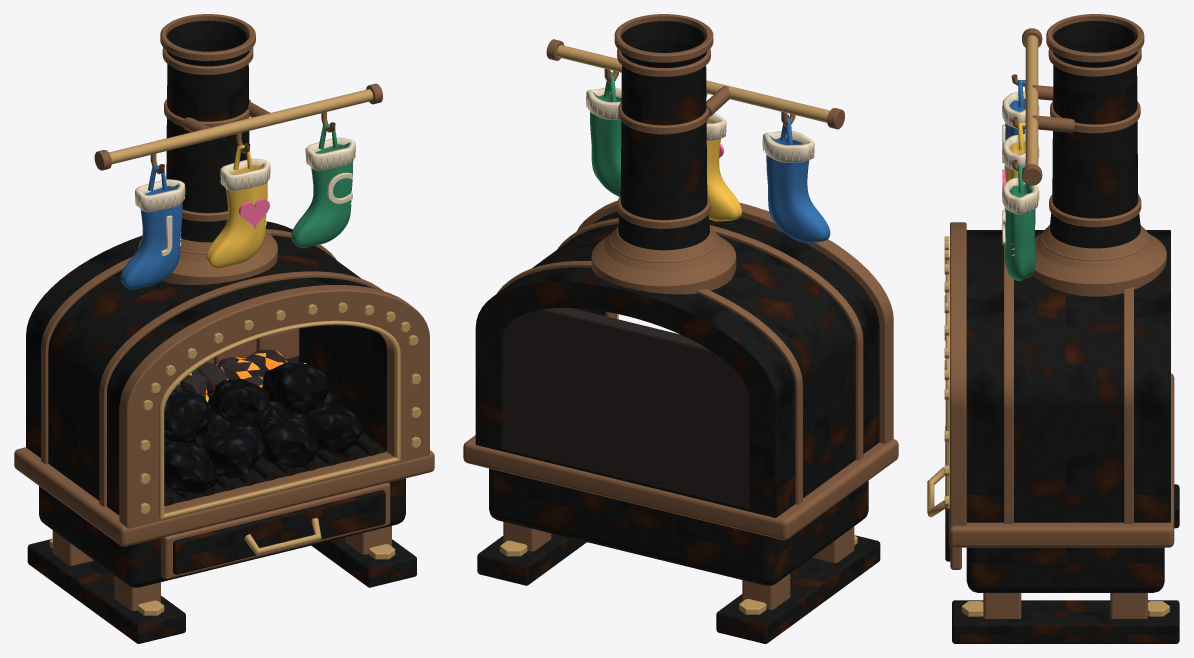
Rendered from aft_furnace.glb.
The picture shows the model from 3 angles, left to right: view 1: azimuth 30°, elevation 25°; view 2: azimuth 150°, elevation 25°; view 3: azimuth 270°, elevation 25°; orthographic projection. The views are drawn at different scales.
Visible parts, largest first — view 1: Barrel vault, Raised fire mouth, Rolled chimney | hollow bore, Hearth sill, Ash drawer moulding.001, Ash pit, Deck shoe, Polished mouth bead, Stocking rail, Casting strap, J | stocking, C | stocking (+23 smaller); view 2: Barrel vault, Fireback, Ash pit, Rolled chimney | hollow bore, Hearth sill, Flared chimney socket, Deck shoe, Raised fire mouth, J | stocking, Casting strap, Deck shoe.001, Casting strap.001 (+12 smaller); view 3: Barrel vault, Rolled chimney | hollow bore, Ash pit, Deck shoe.001, Hearth sill, Flared chimney socket, Raised fire mouth, Casting strap, Casting strap.001, C | stocking, Rolled flue collar.004, Stocking rail (+13 smaller).
Part boxes in pixels (left/top/right/bottom): Barrel vault: left=26, top=221, right=386, bottom=515; Raised fire mouth: left=119, top=285, right=429, bottom=528; Rolled chimney | hollow bore: left=166, top=20, right=249, bottom=242; Hearth sill: left=14, top=447, right=434, bottom=546; Ash drawer moulding.001: left=173, top=490, right=385, bottom=574; Ash pit: left=39, top=478, right=405, bottom=587; Deck shoe: left=27, top=539, right=185, bottom=643; Polished mouth bead: left=158, top=320, right=400, bottom=519; Stocking rail: left=109, top=89, right=373, bottom=164; Casting strap: left=99, top=271, right=383, bottom=506; J | stocking: left=120, top=184, right=182, bottom=289; C | stocking: left=291, top=142, right=352, bottom=247; Barrel vault: left=475, top=211, right=879, bottom=517; Fireback: left=503, top=308, right=749, bottom=507; Ash pit: left=489, top=468, right=868, bottom=585; Rolled chimney | hollow bore: left=618, top=21, right=709, bottom=250; Hearth sill: left=463, top=435, right=898, bottom=540; Flared chimney socket: left=591, top=226, right=736, bottom=294; Deck shoe: left=716, top=535, right=880, bottom=643; Raised fire mouth: left=576, top=200, right=893, bottom=443; J | stocking: left=766, top=135, right=830, bottom=242; Casting strap: left=557, top=218, right=863, bottom=460; Deck shoe.001: left=477, top=533, right=586, bottom=585; Casting strap.001: left=497, top=261, right=802, bottom=504; Barrel vault: left=966, top=230, right=1170, bottom=522; Rolled chimney | hollow bore: left=1049, top=21, right=1140, bottom=248; Ash pit: left=966, top=547, right=1164, bottom=592; Deck shoe.001: left=952, top=600, right=1179, bottom=643; Hearth sill: left=949, top=373, right=1174, bottom=547; Flared chimney socket: left=1032, top=224, right=1166, bottom=296; Raised fire mouth: left=950, top=222, right=966, bottom=526; Casting strap: left=1004, top=244, right=1013, bottom=523; Casting strap.001: left=1124, top=287, right=1133, bottom=523; C | stocking: left=1004, top=184, right=1035, bottom=281; Rolled flue collar.004: left=1046, top=14, right=1144, bottom=62; Stocking rail: left=1025, top=35, right=1038, bottom=165.
Size of the model in its own units: 1.77 by 2.83 by 1.2.
12 materials, 2 textured.
